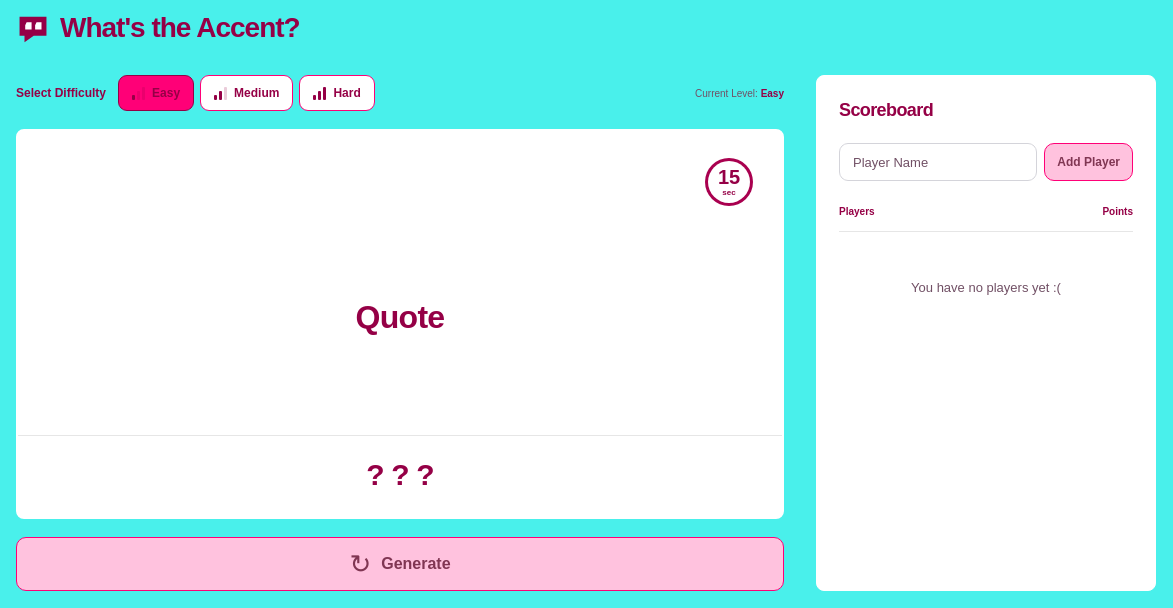
Test: starts the countdown only after generating a quote and cleans up on unmount
Later steps or results of the test are not shown.
In the field with placeholder "Player Name": (938, 162) [839,143,1037,181], type "Alice"
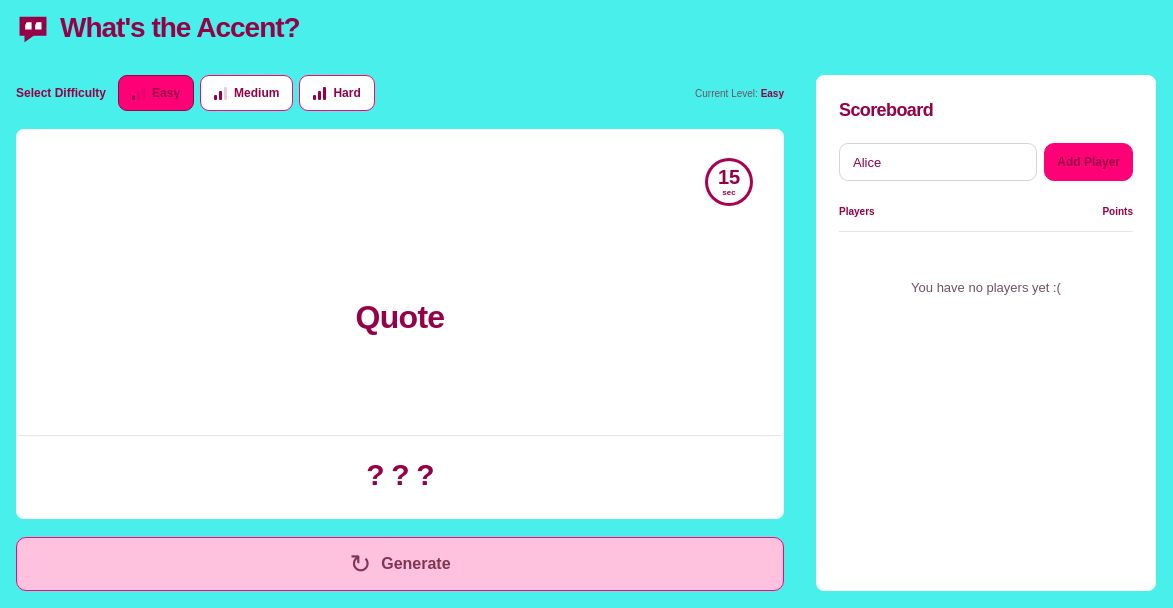
Click the button "Add Player": (1089, 162) [1044,143,1133,181]
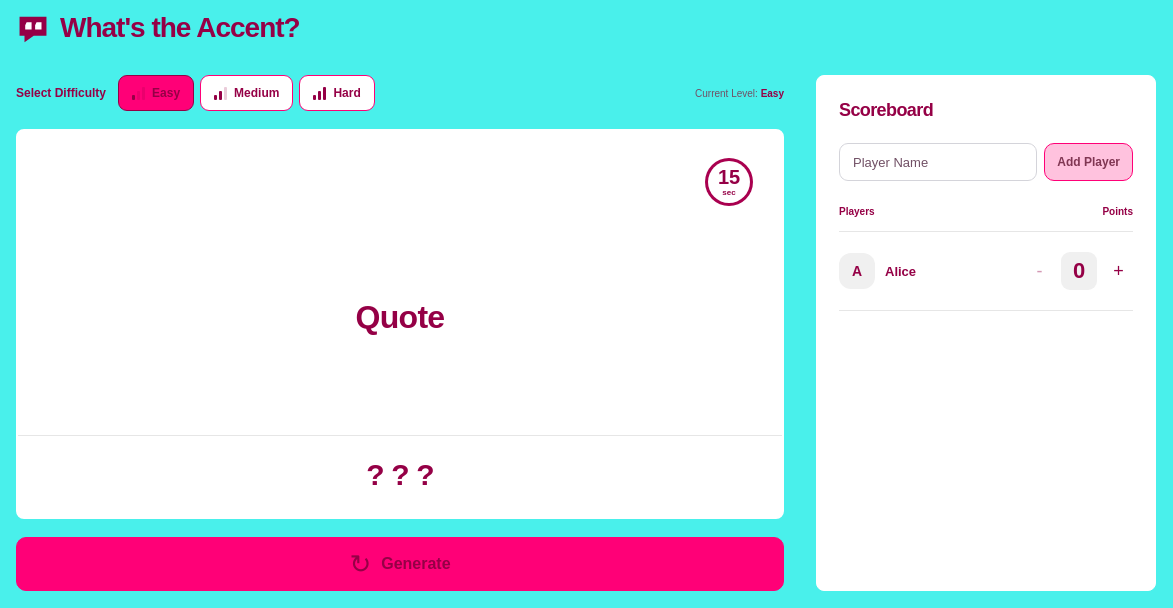
Click the button "Hard": (337, 93) [299,75,375,111]
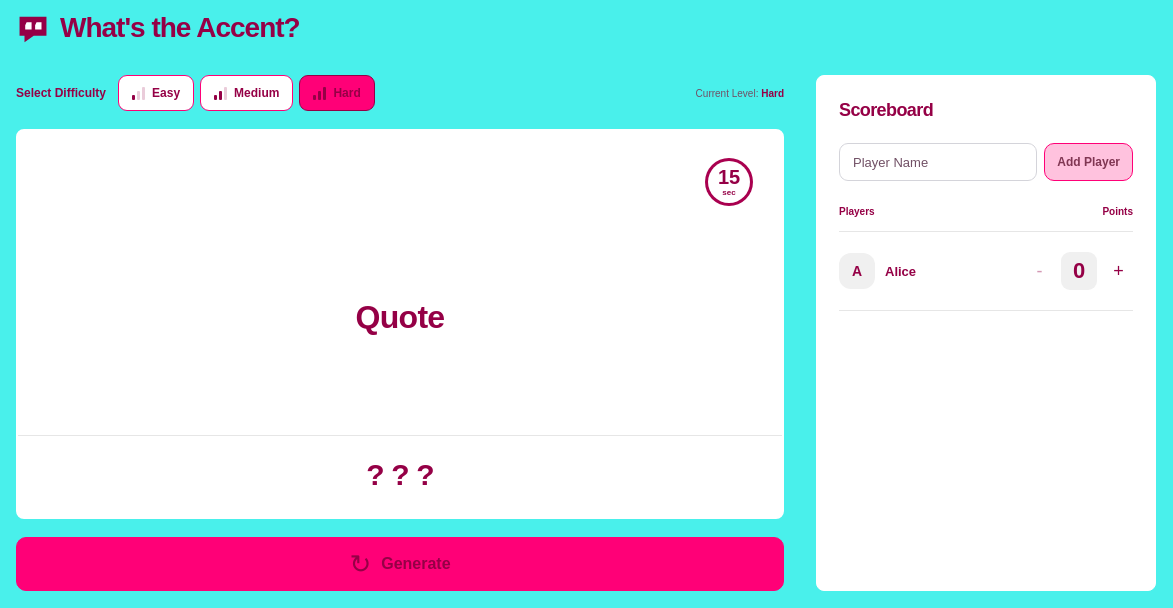
Check: the text "hard" is shown, box [761,88,784,98]
Click the button "↻ Generate": (400, 564) [16,537,784,591]
Wait 16000 ms
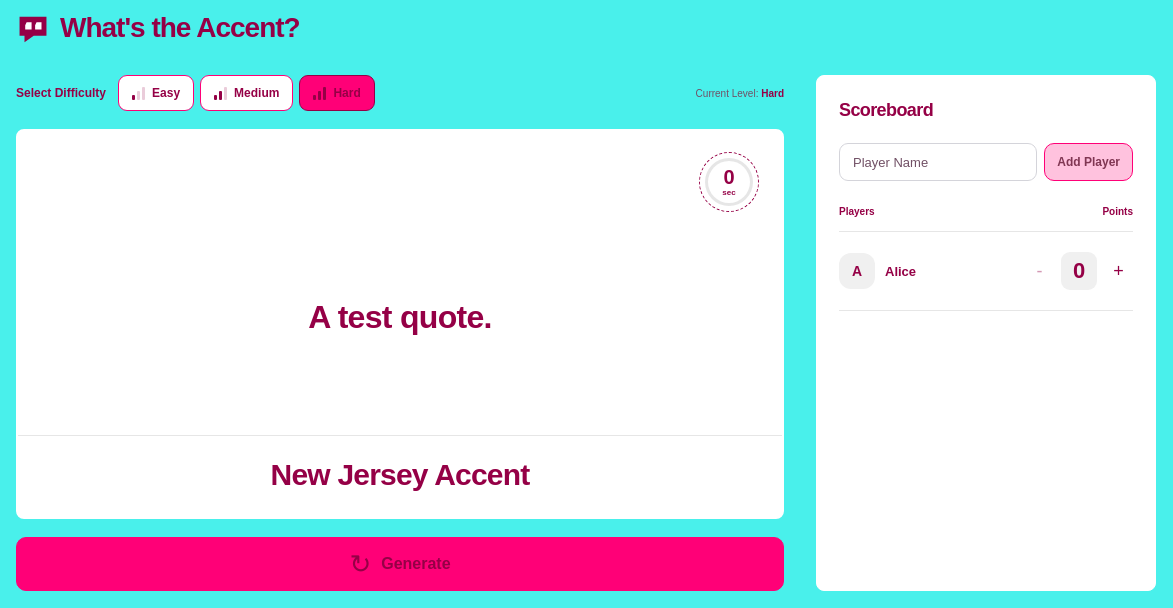
Check: the button "↻ Generate" is enabled
Check: the text "A test quote." is shown, box [308,299,492,335]
Check: the text with class "Accent" shows "Accent", box [271,458,529,490]
Click the button "↻ Generate": (400, 564) [16,537,784,591]
Wait 1000 ms
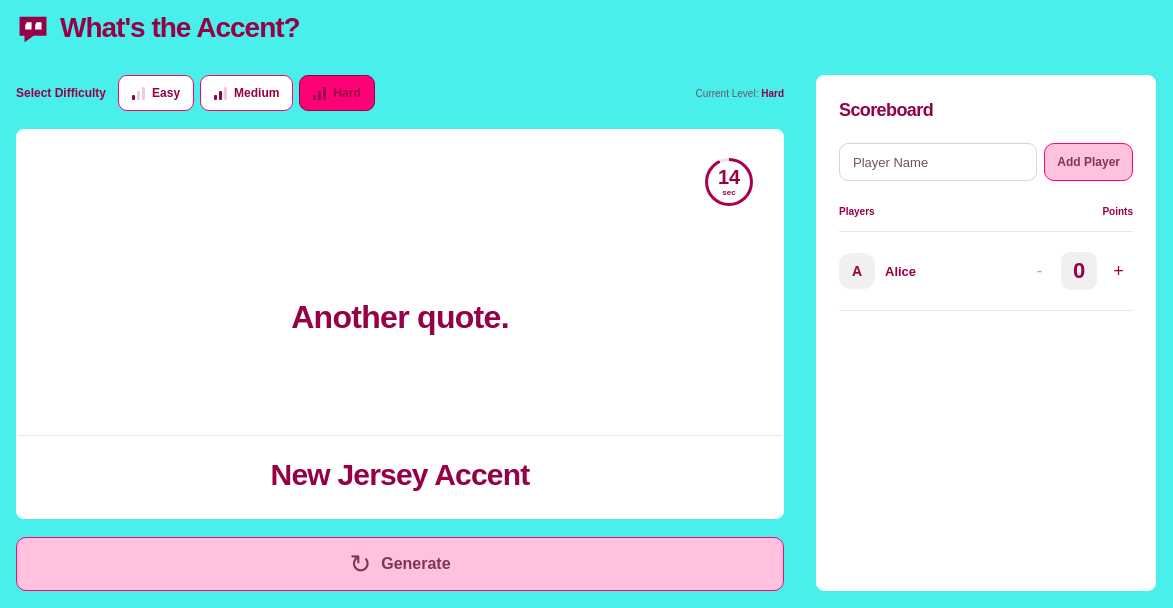
Check: the element with class "Timer" shows "14", box [718,166,740,188]
